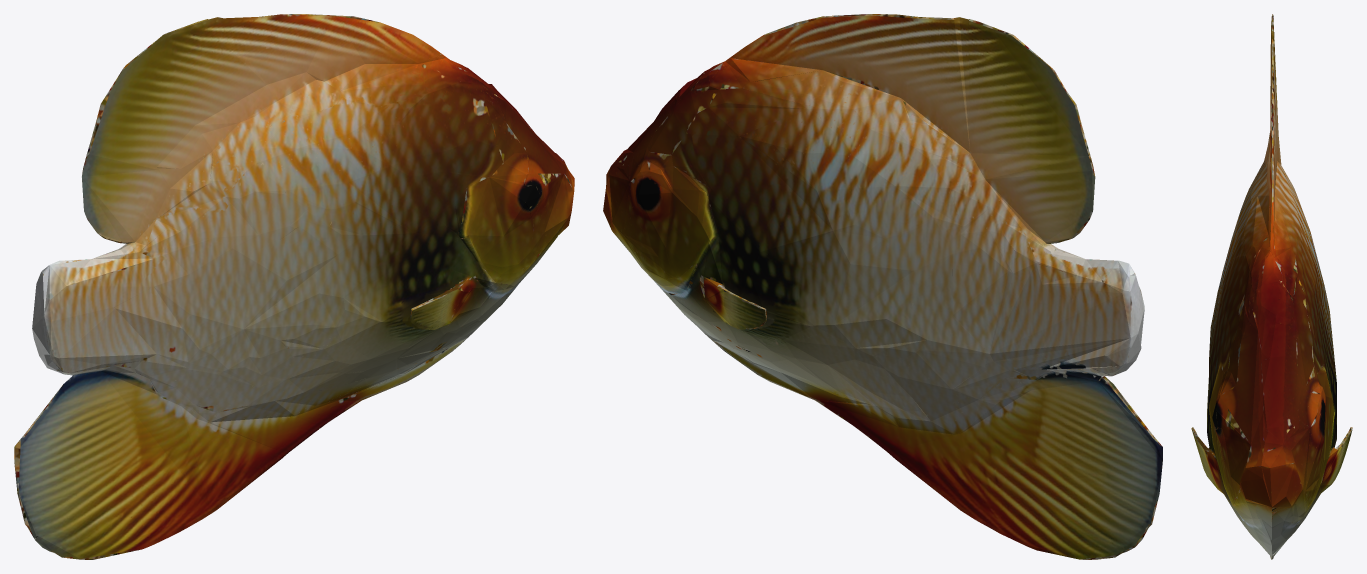
Rendered from fish_0091_smpl23_resized.glb.
The picture shows the model from 3 angles, left to right: view 1: azimuth 30°, elevation 25°; view 2: azimuth 150°, elevation 25°; view 3: azimuth 270°, elevation 25°; orthographic projection. The views are drawn at different scales.
Visible parts, largest first — view 1: world; view 2: world; view 3: world.
Boxes of the visible parts, x1,y1,x2,y2 form: world: [14, 14, 574, 559]; world: [603, 14, 1162, 559]; world: [1191, 14, 1352, 559].
Size of the model in its own units: 1.99 by 1.76 by 0.4827.
Materials: 1 (1 with a texture image).
